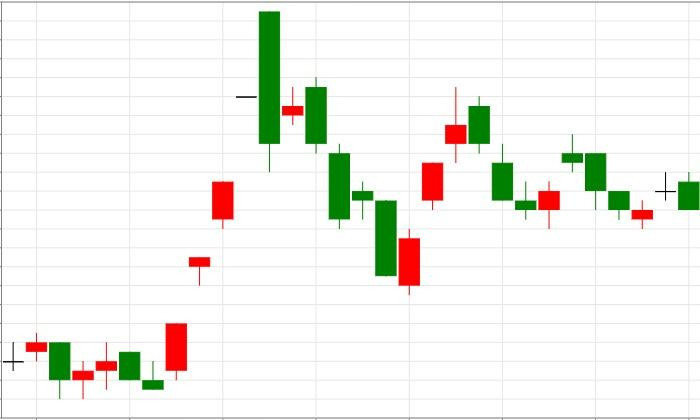three_white_soldiers_rise: (259, 12, 467, 296)
